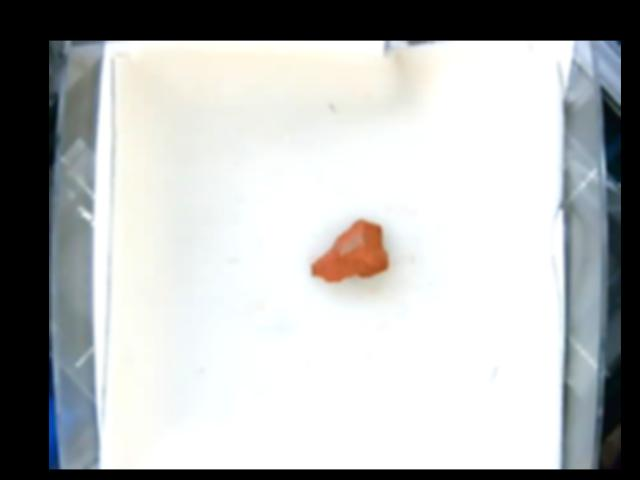Brisk: (309, 219, 390, 281)
